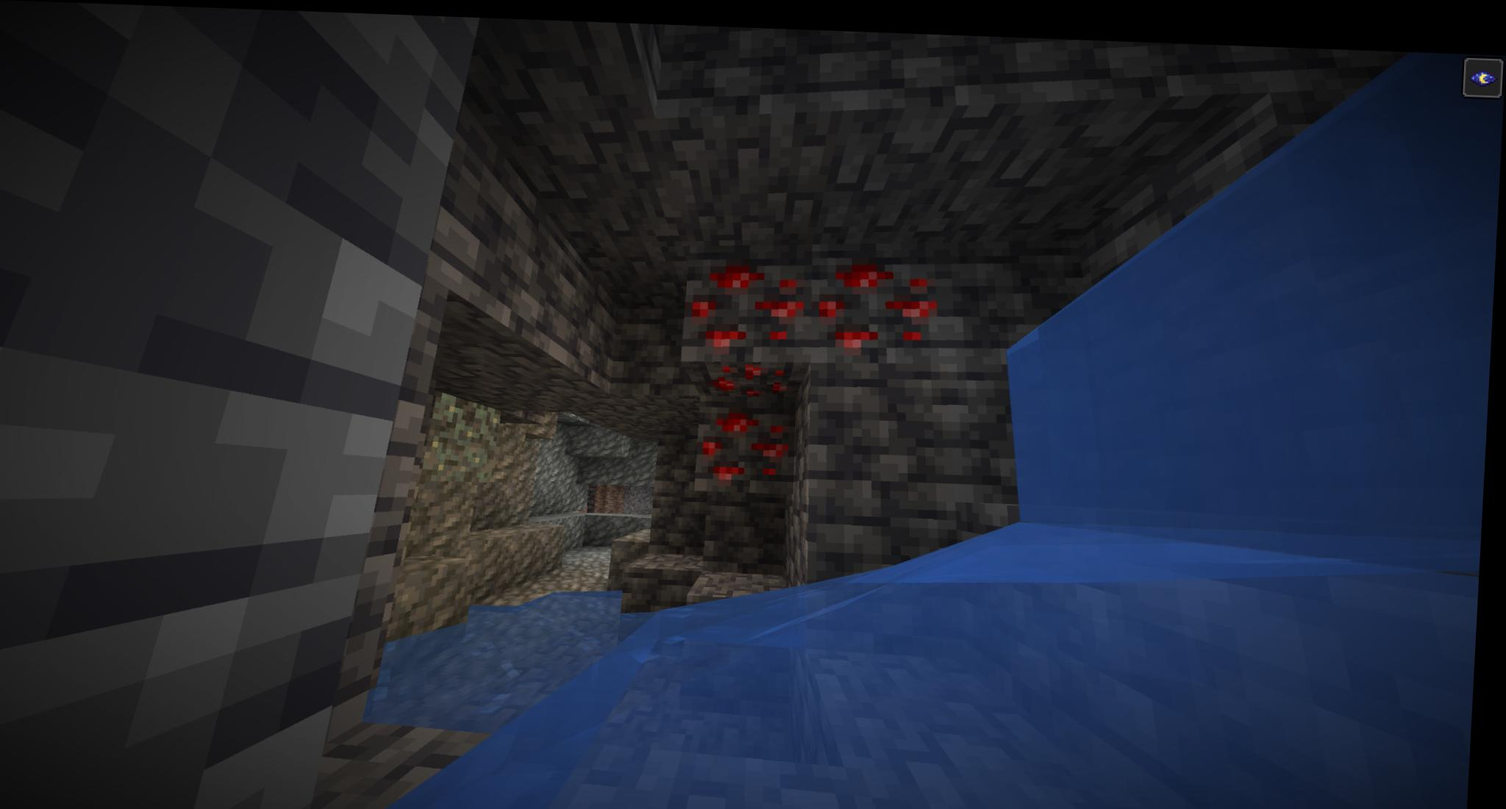redstone ore: (680, 244, 822, 391), (805, 243, 953, 369), (686, 380, 810, 486)
